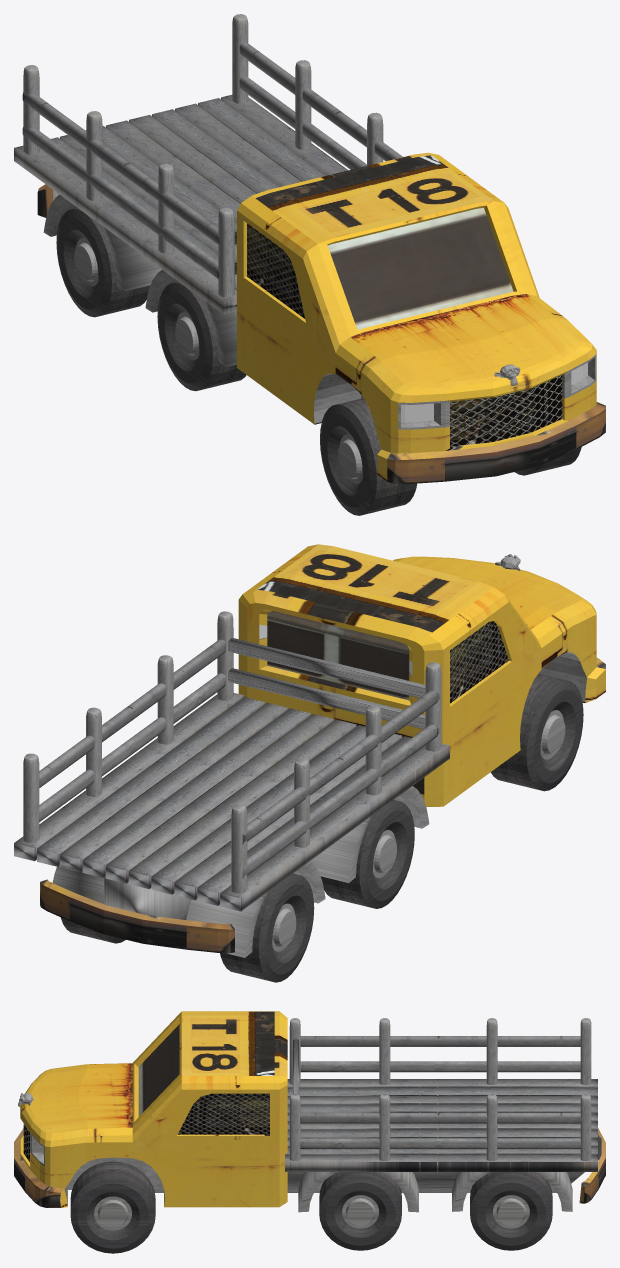
File: Truck 3.fbx
3 views of the same model, one above another, from view 1: azimuth 30°, elevation 25°; view 2: azimuth 150°, elevation 25°; view 3: azimuth 270°, elevation 25° (orthographic). The views are drawn at different scales.
Visible parts, largest first — view 1: Cube.003; view 2: Cube.003; view 3: Cube.003.
Part boxes in pixels (x1=…): Cube.003: x1=14, y1=14, x2=605, y2=515; Cube.003: x1=14, y1=544, x2=605, y2=982; Cube.003: x1=14, y1=1011, x2=605, y2=1253.
Size of the model in its own units: 574 by 560 by 1732.
